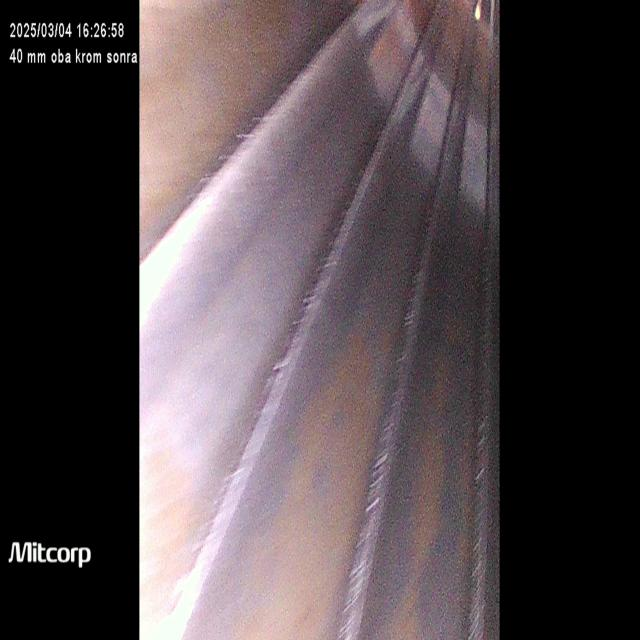hata_4.2: (222, 305, 402, 640), (376, 321, 478, 640), (138, 441, 204, 640)
